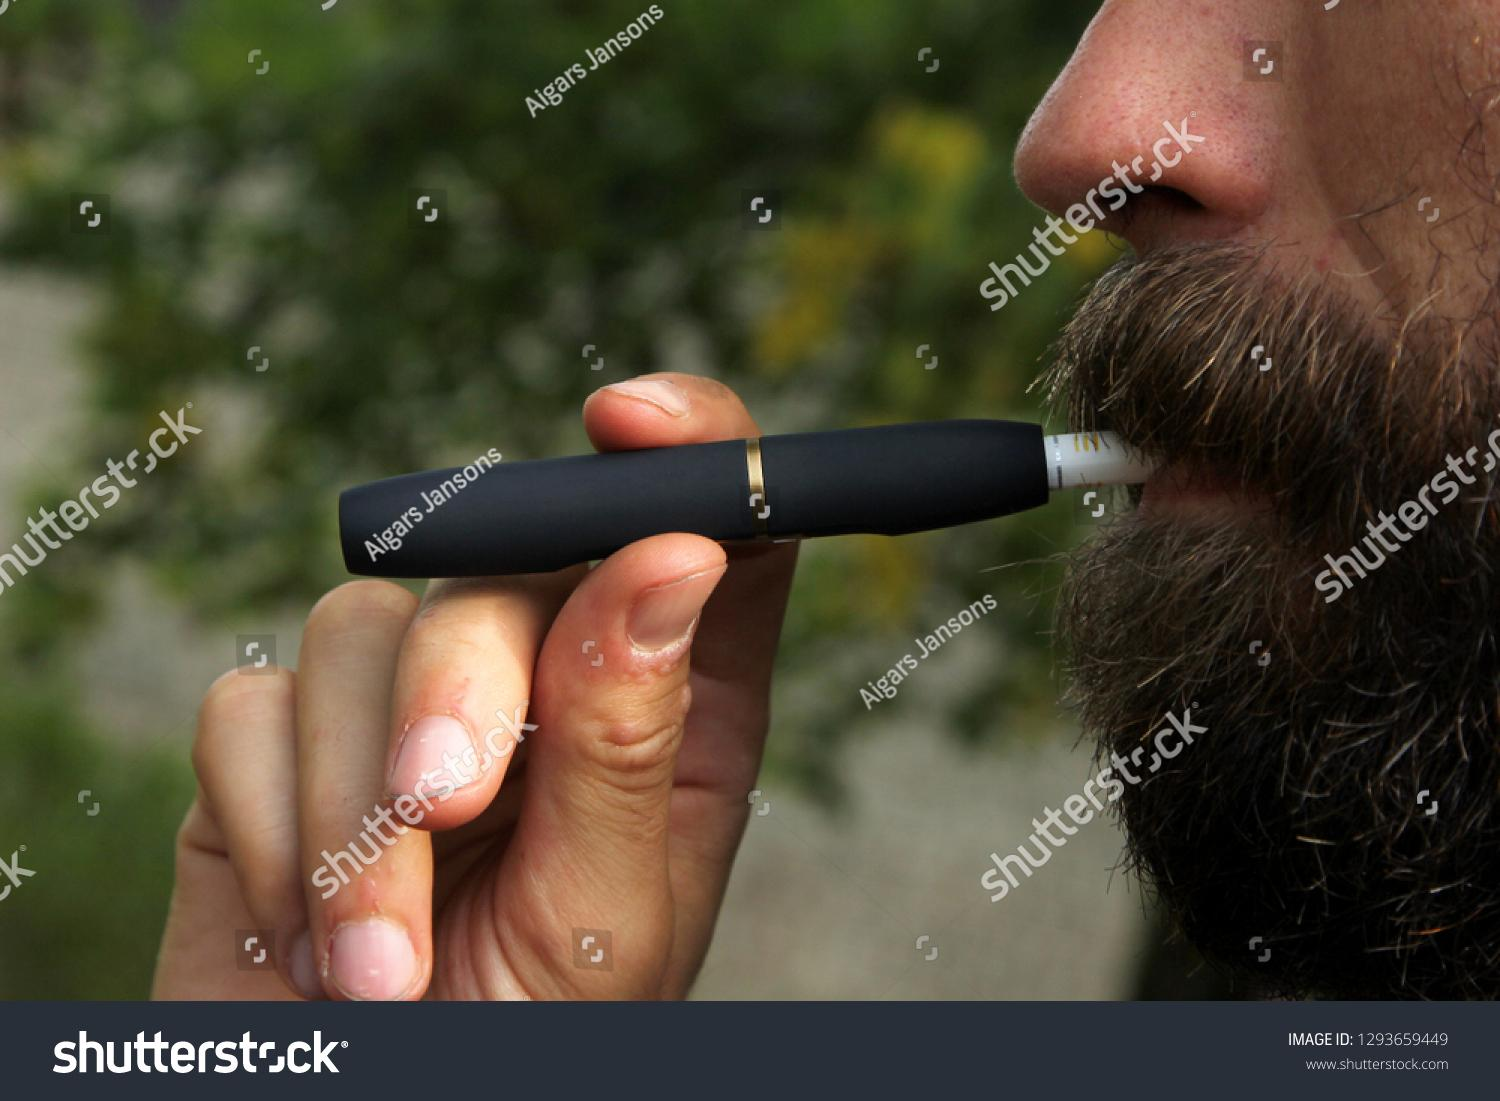iqos: (340, 419, 1134, 576)
